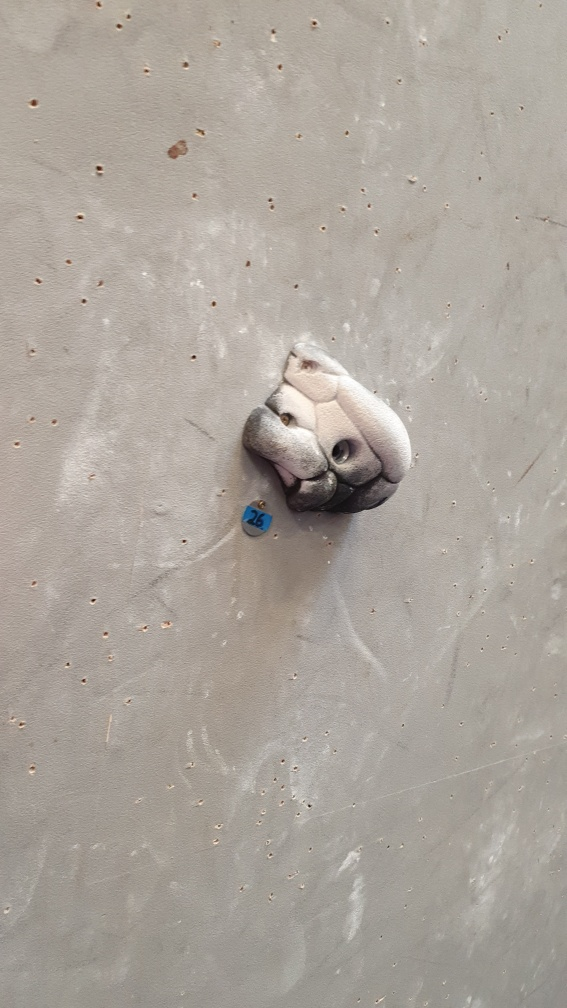Hand Start: (239, 496, 276, 538)
Jug: (237, 331, 419, 516)
